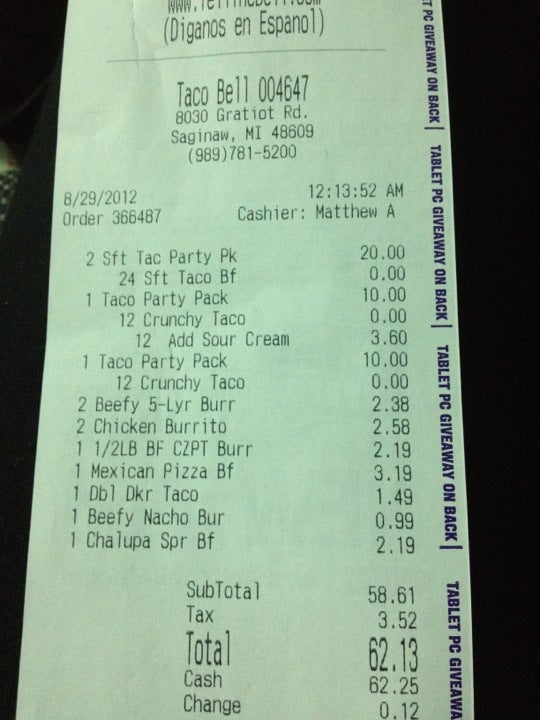Taco Bell: (170, 73, 252, 109)
